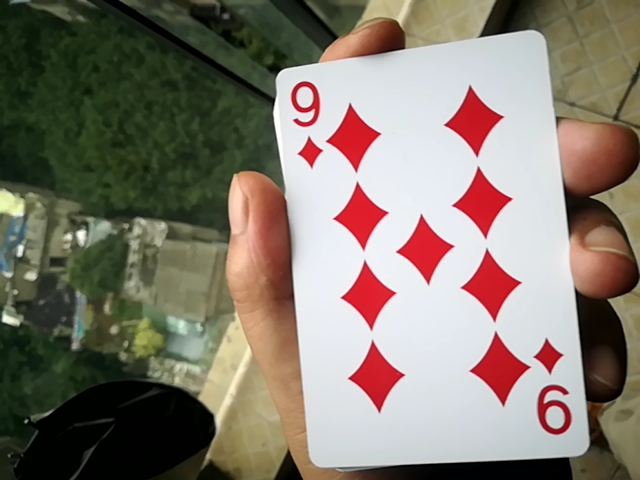fk 9: (248, 33, 589, 458)
